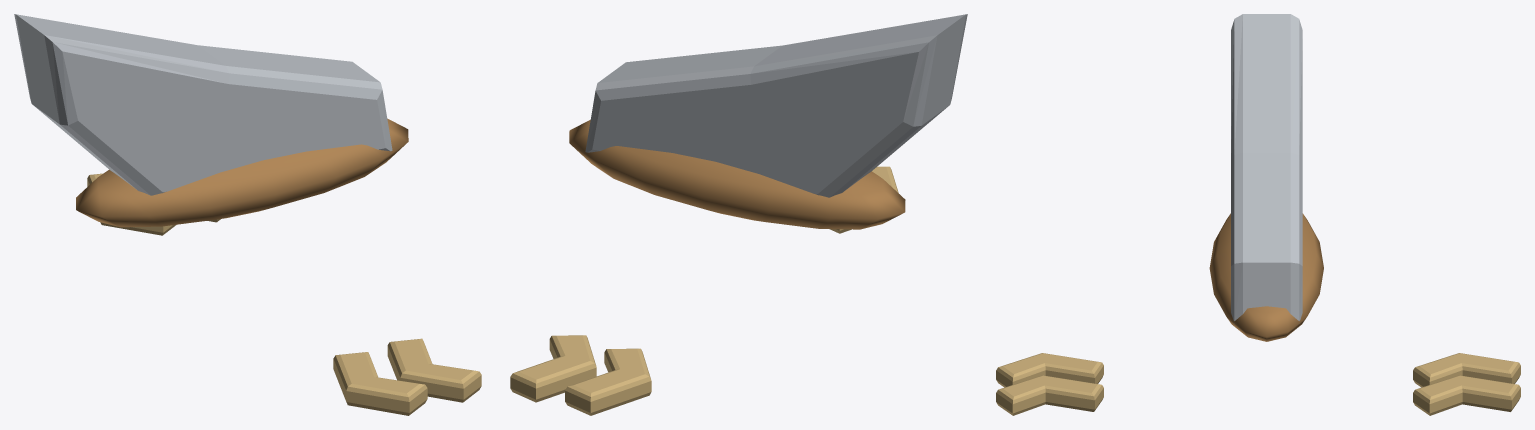
Rendered from striker.glb.
3 views of the same model, side by side, from view 1: azimuth 30°, elevation 25°; view 2: azimuth 150°, elevation 25°; view 3: azimuth 270°, elevation 25° (orthographic). The views are drawn at different scales.
Visible parts, largest first — view 1: head, chest; view 2: head, chest; view 3: head, chest.
Boxes of the visible parts, bbox=[...] form: head: bbox=[14, 14, 408, 227]; chest: bbox=[87, 173, 481, 415]; head: bbox=[569, 14, 967, 229]; chest: bbox=[510, 166, 898, 415]; head: bbox=[1209, 14, 1323, 341]; chest: bbox=[996, 353, 1520, 415].
Bounding box in the file's own units: 0.4327 × 0.3612 × 0.6142.
